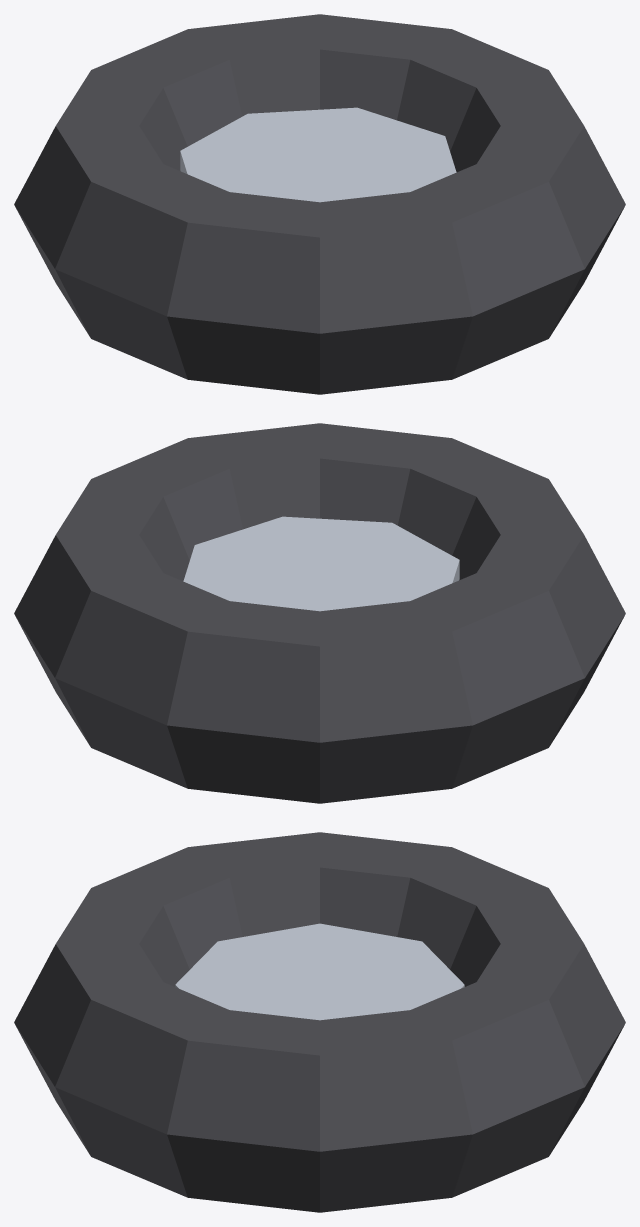
File: Basura_Metal_Llanta.fbx
The picture shows the model from 3 angles, top to bottom: view 1: azimuth 30°, elevation 25°; view 2: azimuth 150°, elevation 25°; view 3: azimuth 270°, elevation 25°; orthographic projection.
Visible parts, largest first — view 1: Basura_Metal_Llanta; view 2: Basura_Metal_Llanta; view 3: Basura_Metal_Llanta.
Boxes of the visible parts, x1,y1,x2,y2 form: Basura_Metal_Llanta: (14, 14, 625, 394); Basura_Metal_Llanta: (14, 423, 625, 803); Basura_Metal_Llanta: (14, 832, 625, 1212).
Bounding box in the file's own units: 2.2 × 0.6235 × 2.2.
1 material, 1 textured.
